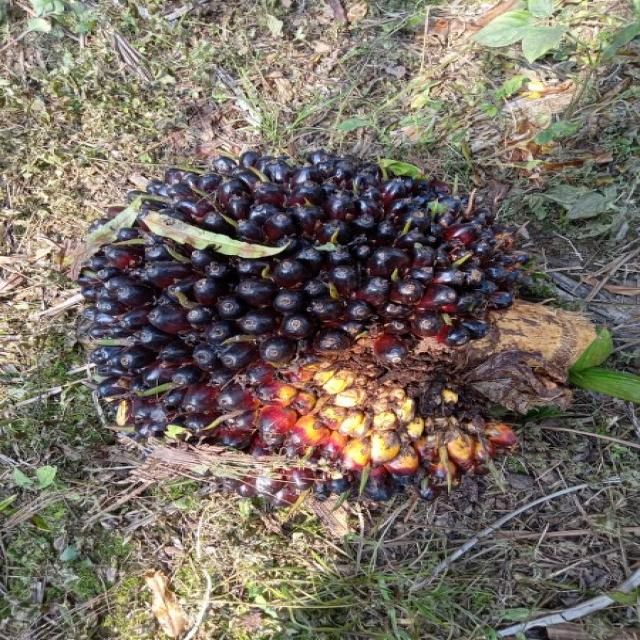fraksi 00: (68, 135, 550, 492)
